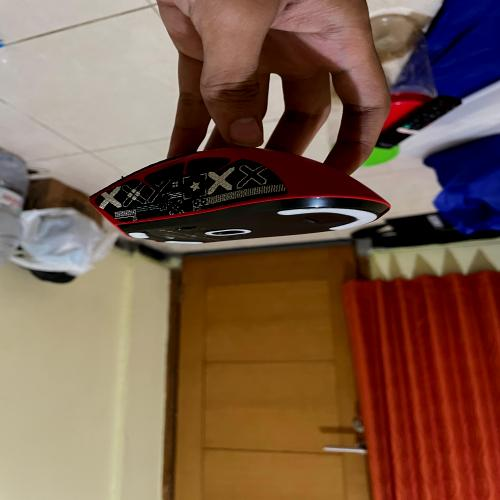mouse: (73, 133, 400, 254)
